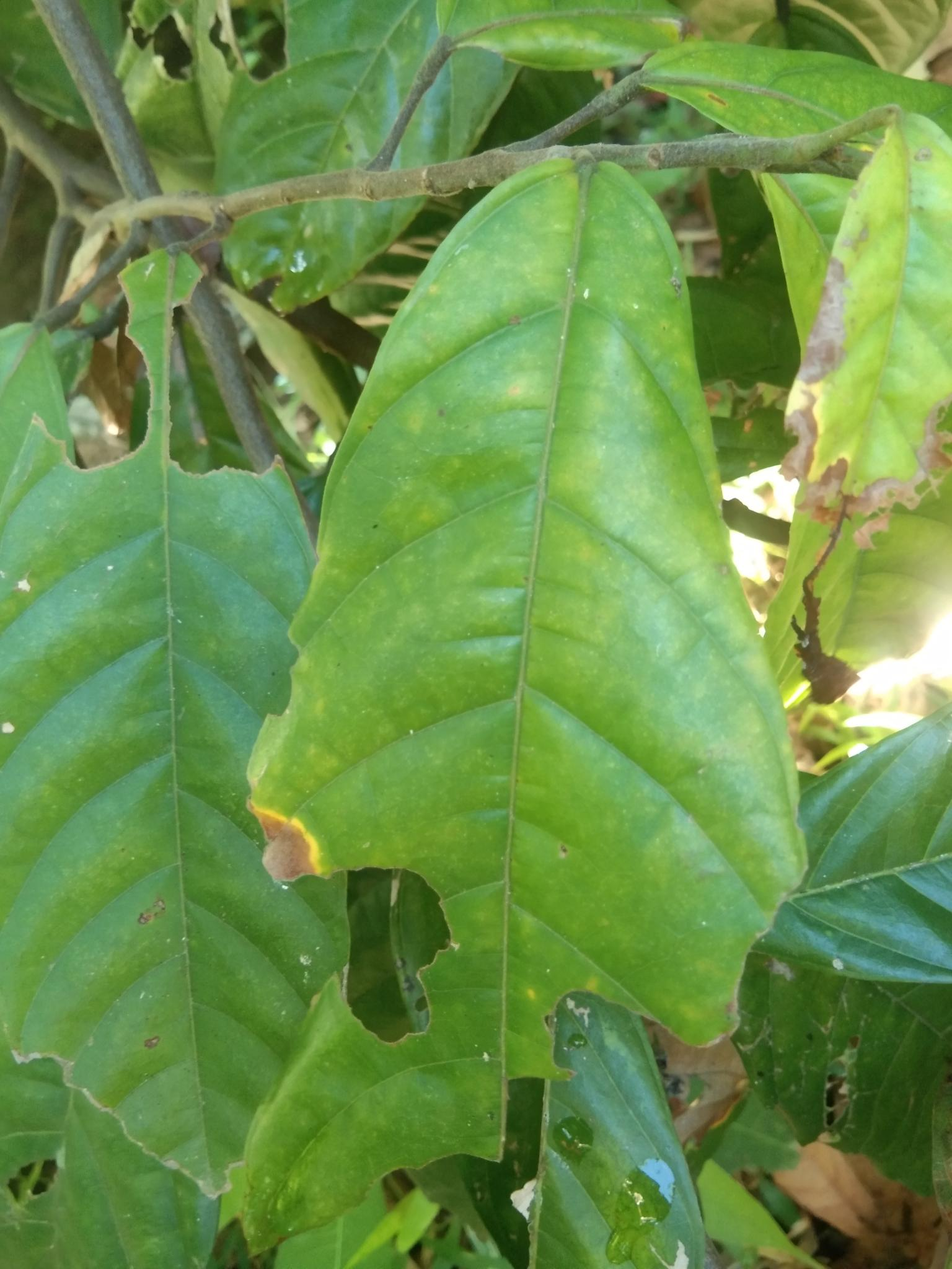Fosforo: (235, 149, 809, 1248)
